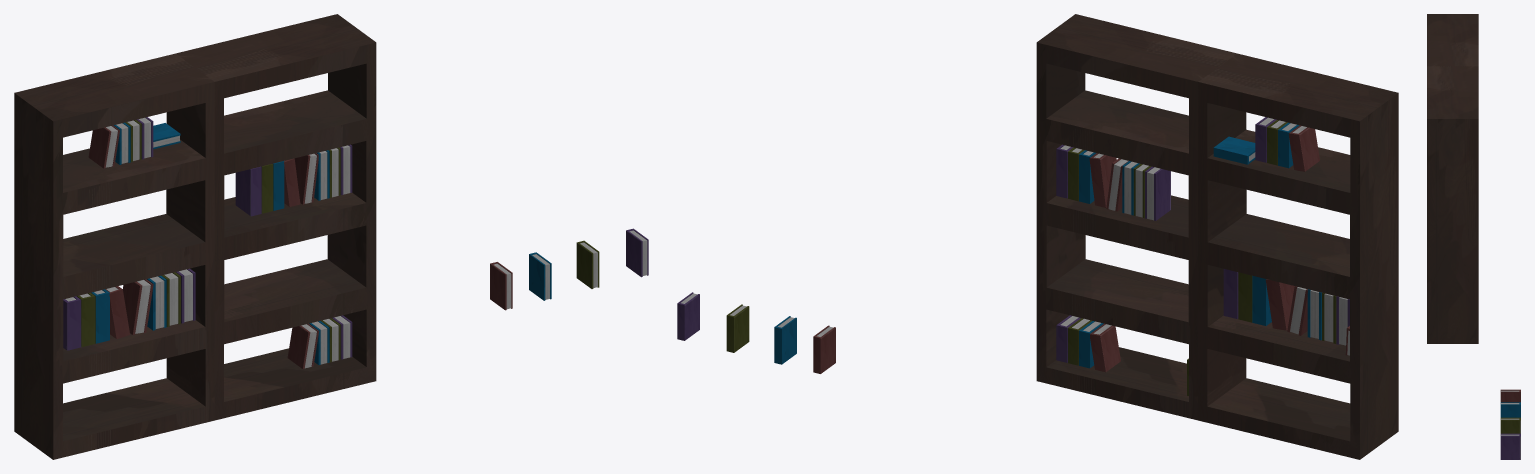
The model's file is M-BookShelf.fbx.
3 renders of one model, left to right at view 1: azimuth 30°, elevation 25°; view 2: azimuth 150°, elevation 25°; view 3: azimuth 270°, elevation 25°, orthographic. The views are drawn at different scales.
Visible parts, largest first — view 1: Cube, Bookstack1.003, Bookstack1.002, Bookstack1, Bookstack1.001, Cube.001, Cube.003, Cube.004, Cube.005; view 2: Cube, Bookstack1.002, Bookstack1.003, Bookstack1, Bookstack1.001, Cube.002, Cube.001, Cube.004, Cube.003, Cube.005; view 3: Cube, Cube.003, Cube.001, Cube.004, Cube.005.
Part boxes in pixels (left/top/right/bottom): Cube: left=14, top=14, right=376, bottom=459; Bookstack1.003: left=63, top=268, right=195, bottom=350; Bookstack1.002: left=235, top=144, right=352, bottom=216; Bookstack1: left=287, top=315, right=352, bottom=368; Bookstack1.001: left=88, top=117, right=153, bottom=168; Cube.001: left=576, top=240, right=599, bottom=288; Cube.003: left=626, top=228, right=648, bottom=277; Cube.004: left=529, top=252, right=551, bottom=300; Cube.005: left=490, top=262, right=512, bottom=310; Cube: left=1036, top=14, right=1398, bottom=459; Bookstack1.002: left=1056, top=144, right=1170, bottom=220; Bookstack1.003: left=1223, top=269, right=1349, bottom=345; Bookstack1: left=1056, top=315, right=1120, bottom=372; Bookstack1.001: left=1255, top=117, right=1319, bottom=171; Cube.002: left=1187, top=136, right=1349, bottom=395; Cube.001: left=726, top=304, right=749, bottom=352; Cube.004: left=774, top=316, right=796, bottom=364; Cube.003: left=677, top=292, right=699, bottom=340; Cube.005: left=813, top=325, right=835, bottom=373; Cube: left=1427, top=14, right=1478, bottom=343; Cube.003: left=1500, top=433, right=1520, bottom=459; Cube.001: left=1500, top=417, right=1520, bottom=433; Cube.004: left=1500, top=402, right=1520, bottom=417; Cube.005: left=1500, top=389, right=1520, bottom=402.
Bounding box in the file's own units: 241 × 45.35 × 125.
33 materials, 33 textured.
